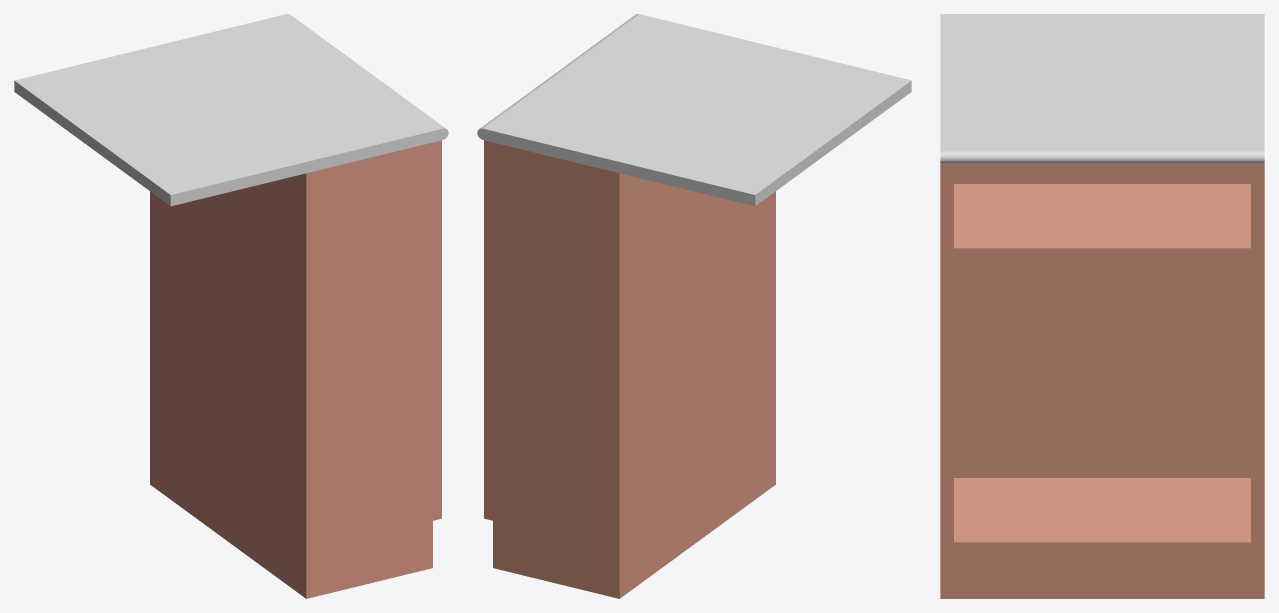
Rendered from Counter_Bar.fbx.
3 renders of one model, left to right at view 1: azimuth 30°, elevation 25°; view 2: azimuth 150°, elevation 25°; view 3: azimuth 270°, elevation 25°, orthographic. The views are drawn at different scales.
Visible parts, largest first — view 1: Counter_Bar; view 2: Counter_Bar; view 3: Counter_Bar.
Part boxes in pixels (<box>): Counter_Bar: <box>14,14,448,598</box>; Counter_Bar: <box>477,14,911,598</box>; Counter_Bar: <box>940,14,1264,598</box>.
Size of what is drawn, in the model's own units: 615 by 600 by 924.
